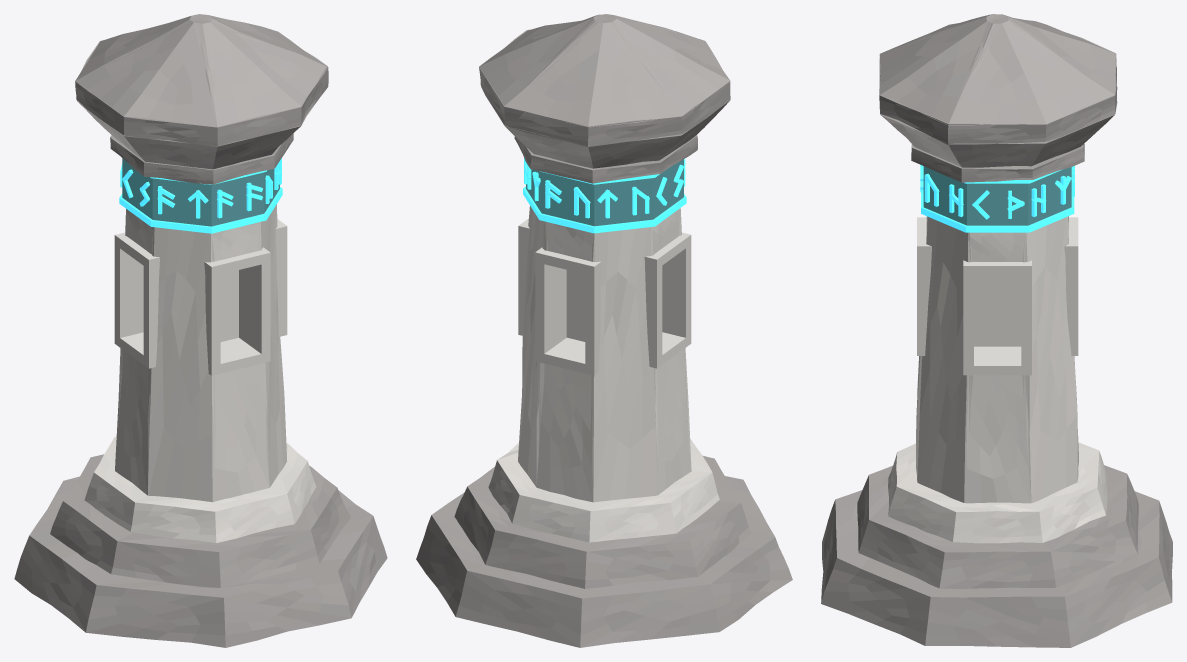
File: xai_build_beacon.fbx
The picture shows the model from 3 angles, left to right: view 1: azimuth 30°, elevation 25°; view 2: azimuth 150°, elevation 25°; view 3: azimuth 270°, elevation 25°; orthographic projection.
Visible parts, largest first — view 1: xai_build_beacon; view 2: xai_build_beacon; view 3: xai_build_beacon.
Boxes of the visible parts, x1,y1,x2,y2 form: xai_build_beacon: (14,14,387,647); xai_build_beacon: (416,14,792,647); xai_build_beacon: (821,14,1172,647).
Size of the model in its own units: 1.49 by 2.59 by 1.48.
